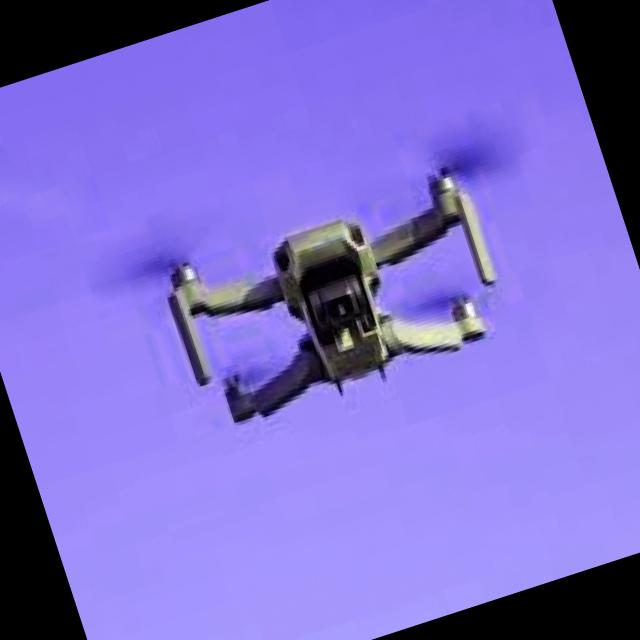drone: (84, 100, 588, 483)
